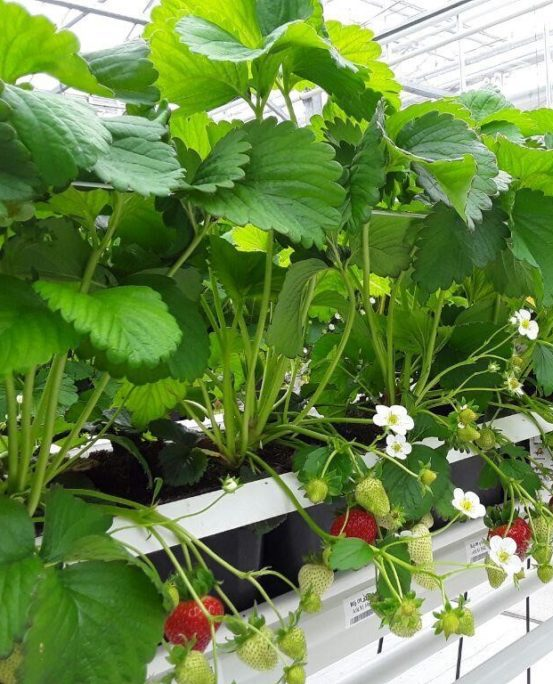ripe_strawberry: (162, 593, 226, 655), (488, 511, 531, 562), (329, 507, 381, 545), (390, 609, 423, 638)
unripe_strawberry: (234, 621, 278, 674), (171, 646, 219, 684), (353, 475, 392, 520), (400, 523, 435, 568), (298, 560, 336, 601), (277, 624, 310, 664), (410, 560, 440, 593), (483, 553, 508, 590), (529, 512, 553, 547), (436, 604, 459, 639), (454, 607, 478, 639), (304, 479, 331, 506), (473, 426, 497, 453), (301, 589, 324, 617), (530, 543, 553, 566), (418, 467, 440, 490), (284, 663, 307, 684), (458, 406, 479, 426), (538, 564, 553, 585)
